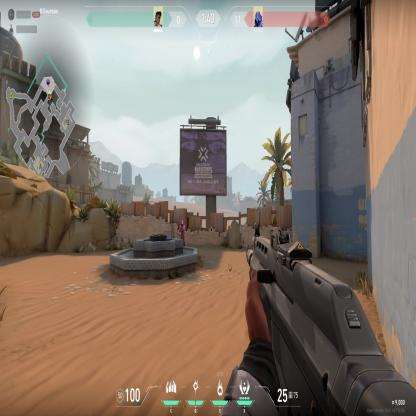enemy: (178, 218, 186, 239)
